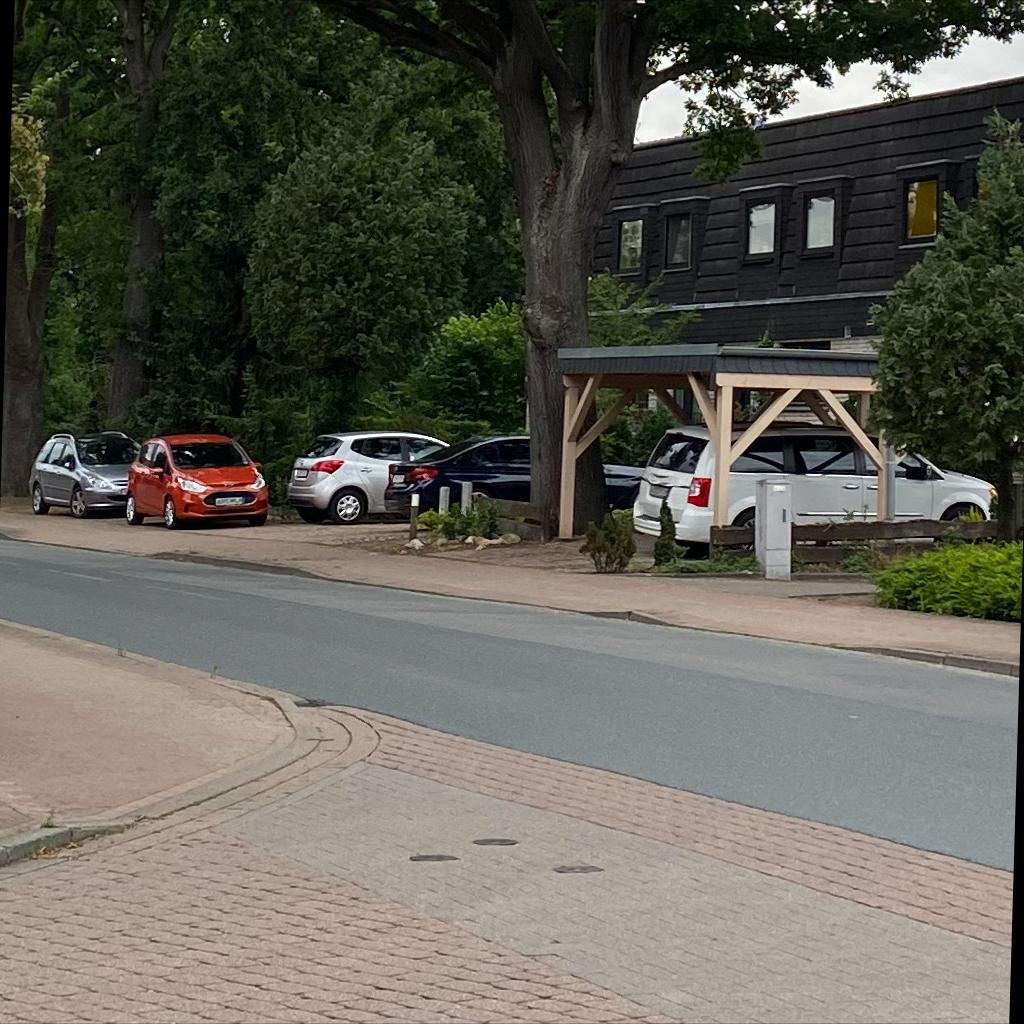tree: (1, 1, 1024, 541), (865, 110, 1023, 539), (39, 1, 182, 432), (1, 1, 70, 497)
